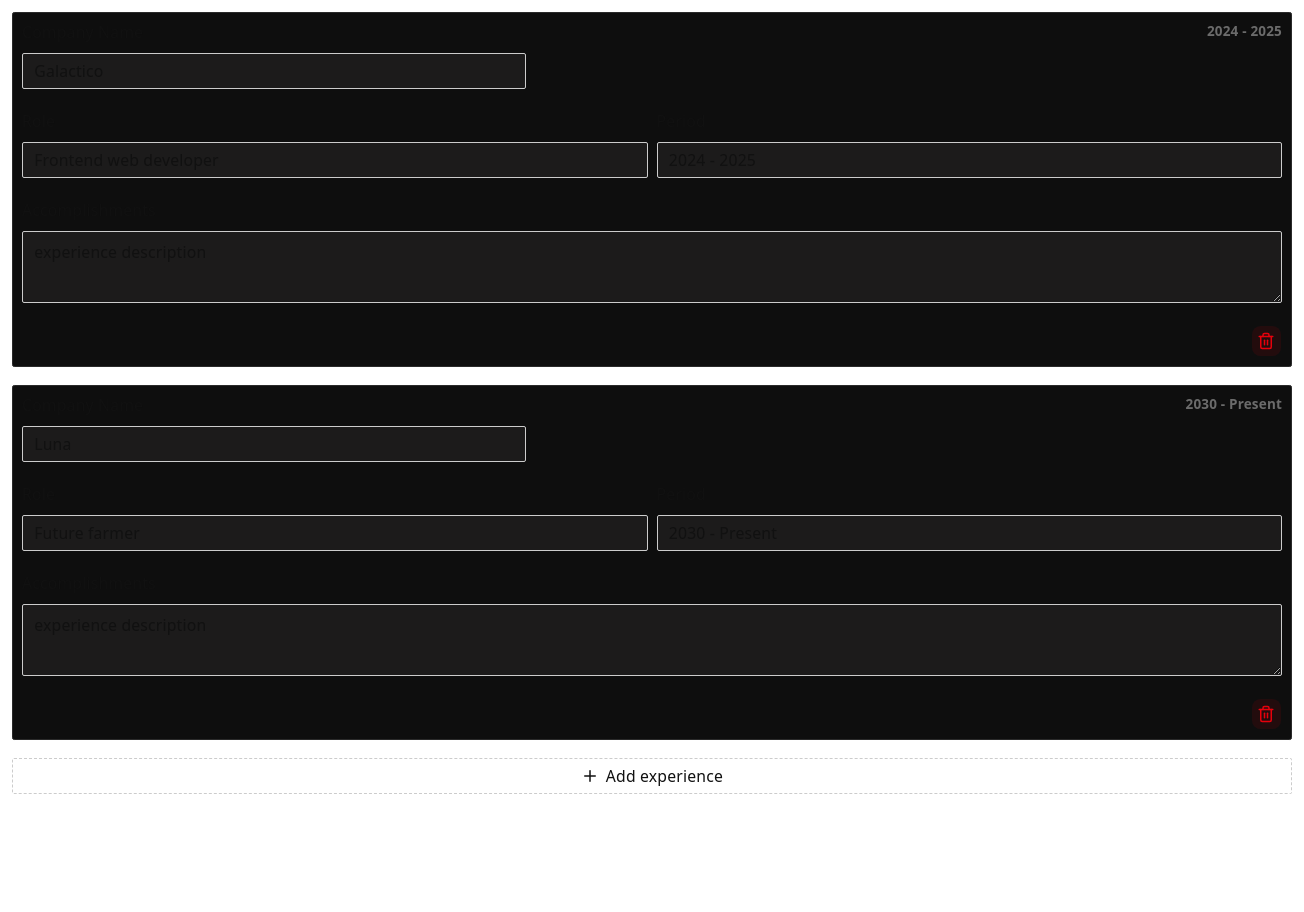
Test: Experiences › delete all experiences
The image size is (1304, 912).
Expected: the number of elements with class "experience-field" is 2, [12,12,1292,367]; [12,385,1292,740]
Step 1. Click the button named "remove" below "2024 - 2025" → (1266, 341), box [1250,326,1282,357]
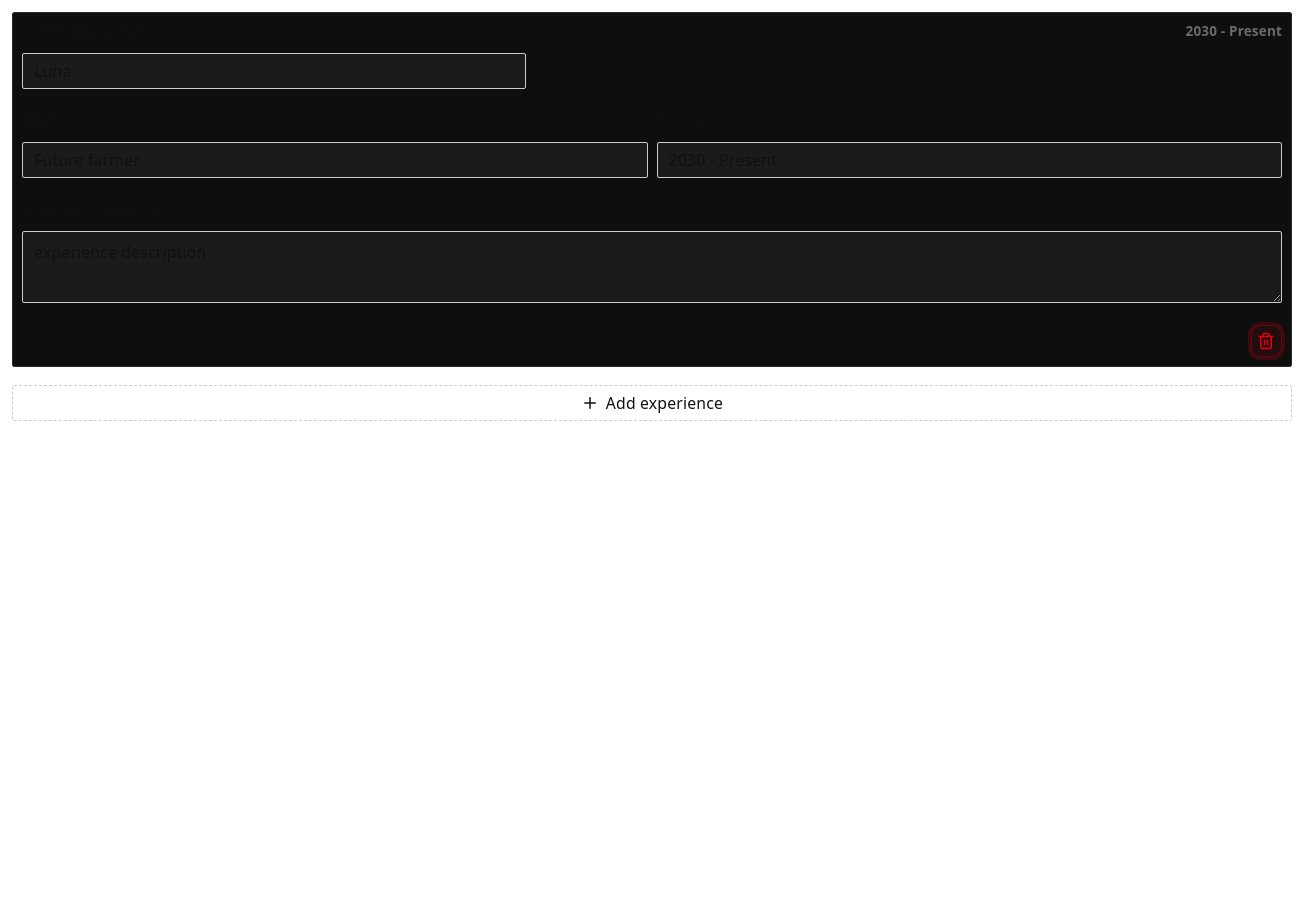
Step 2. Click the button named "remove" → (1266, 341), box [1250,326,1282,357]
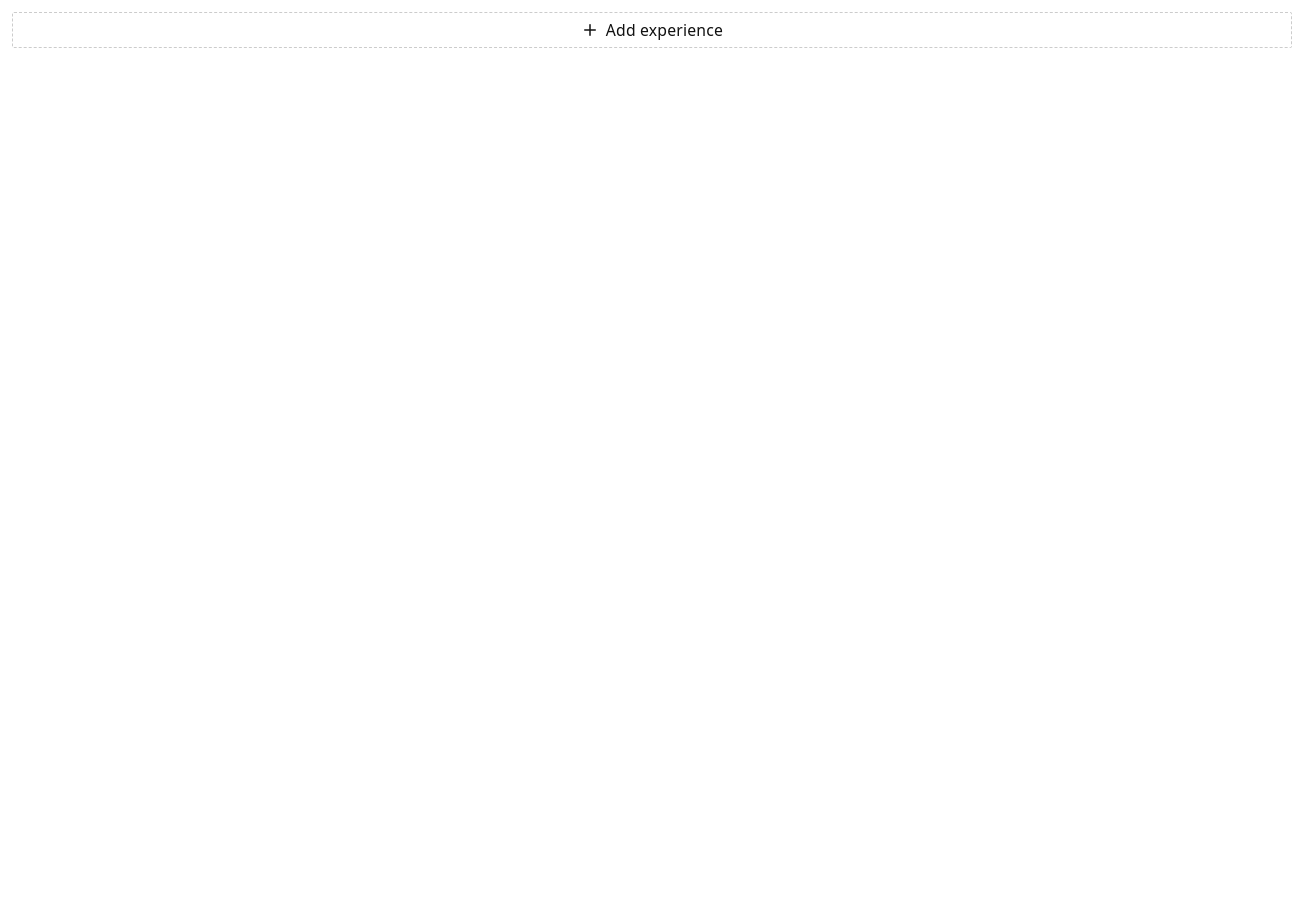
Expected: no elements with class "experience-field" are shown
